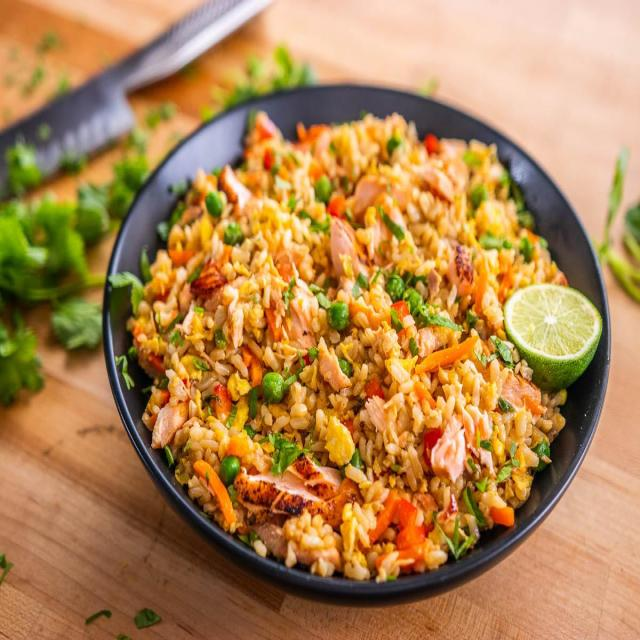Nasi Goreng: (122, 107, 582, 582)
